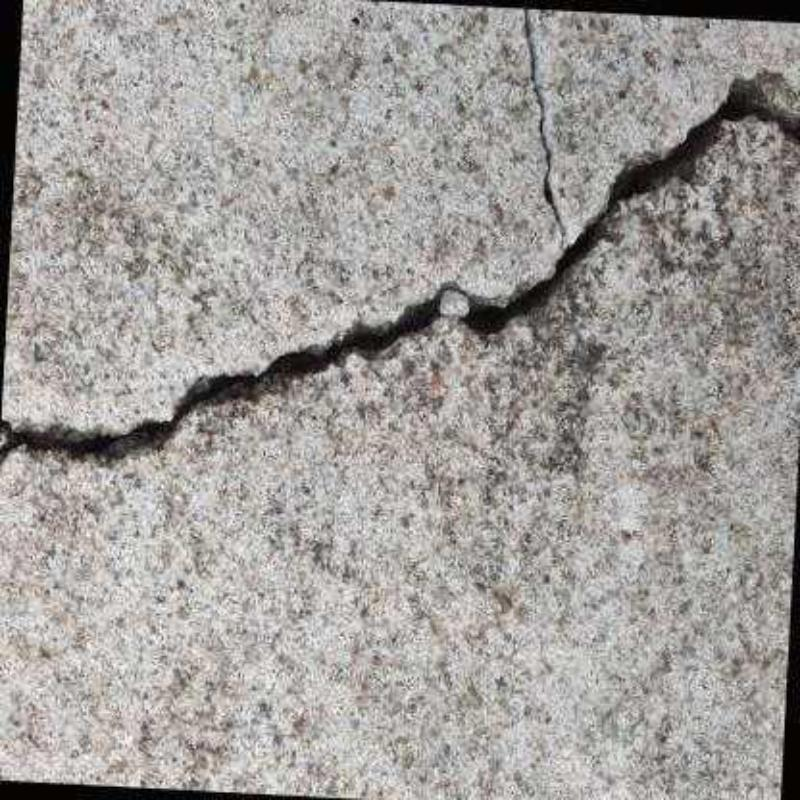pothole: (0, 6, 800, 467)
